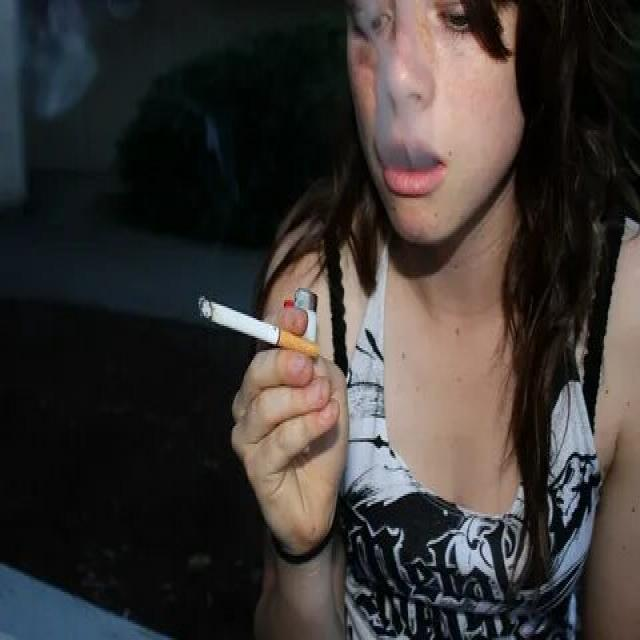smoke: (195, 292, 322, 362)
